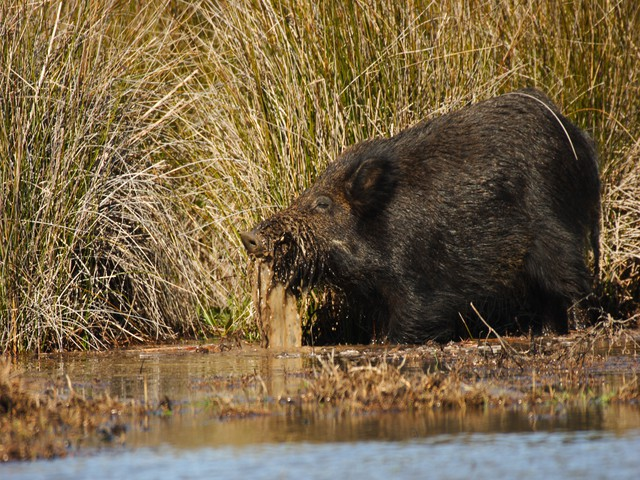Pig: (233, 83, 618, 337)
